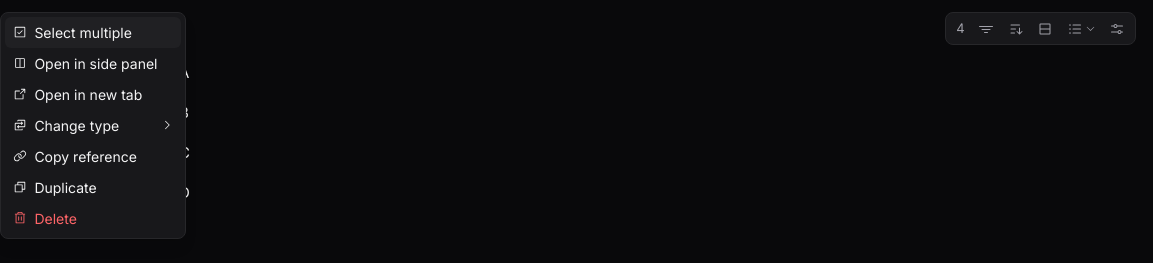
DataView multi-select (Task 18) › test escape clears
Click the menu item "Select multiple". click: coordinates (93, 32)
box: [5,17,181,48]
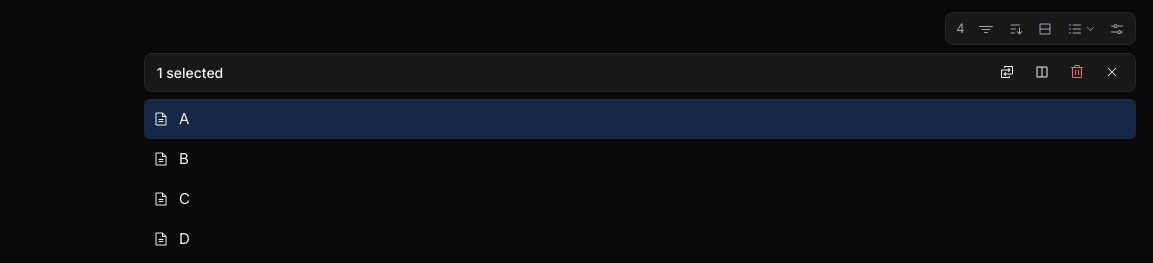
Expected: the element with test id "selection-bar" is shown, [144,53,1136,92]
Press Escape
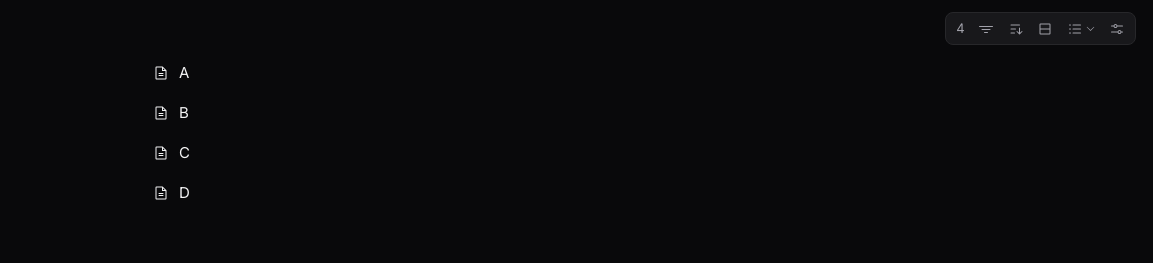
Expected: the element with test id "selection-bar" is gone
